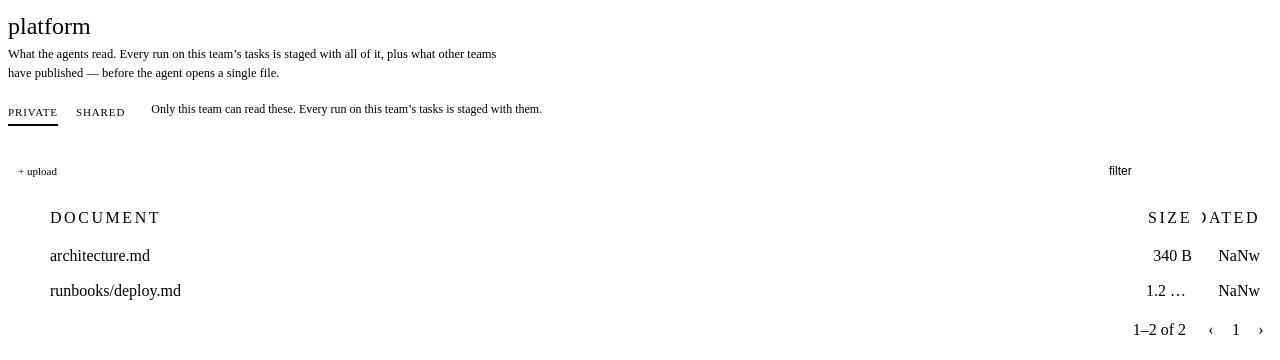
Test: Knowledge — the move verb › names the reverse verb on the shared root
This screenshot has width=1280, height=360.
Click the tab "SHARED" at coordinates (101, 115), box [76,104,125,126]
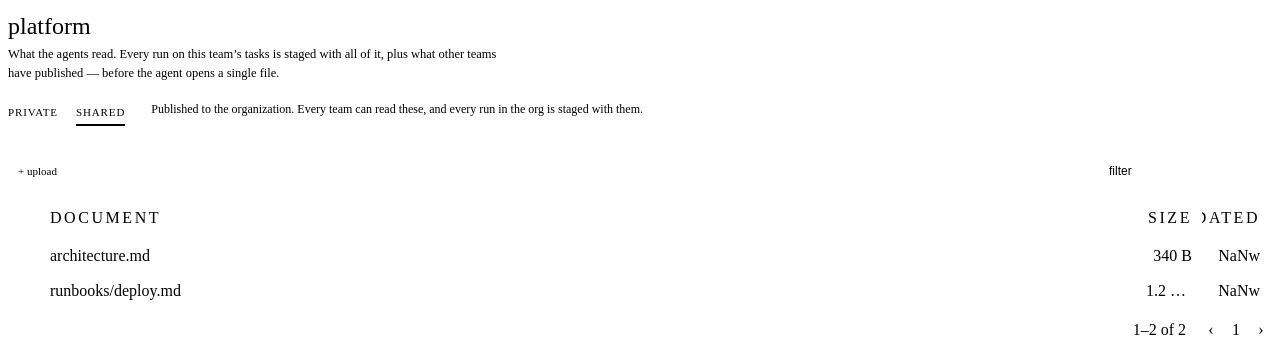
Expected: the button "architecture.md" is shown, [50,247,150,265]
Click the 2nd row at coordinates (1173, 255), box [50,247,1260,265]
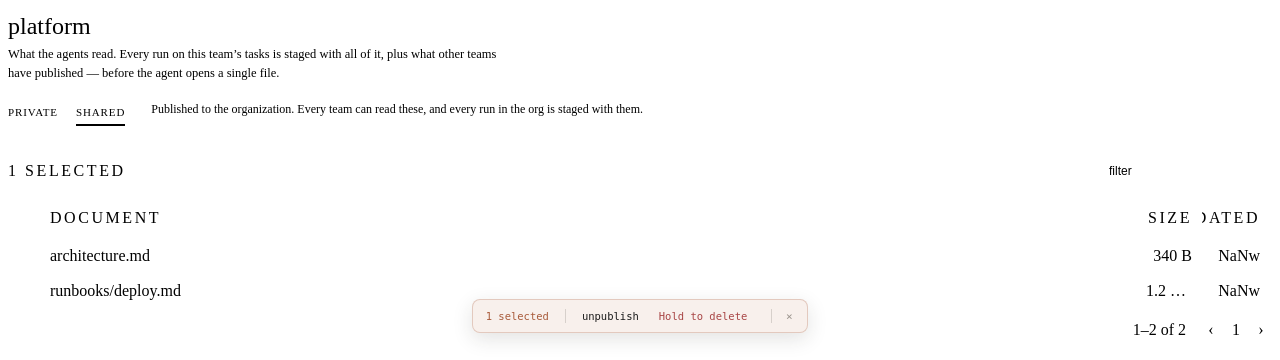
Expected: the button "unpublish" is shown, [582,310,639,322]
